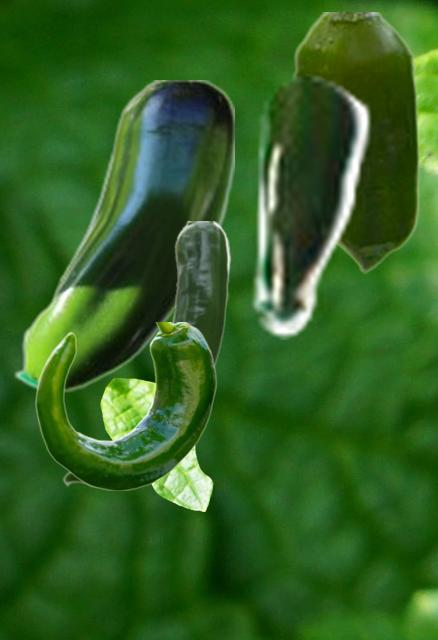green_chili: (13, 80, 233, 393), (62, 221, 230, 487), (245, 72, 372, 338), (292, 12, 419, 272), (35, 322, 216, 489)
